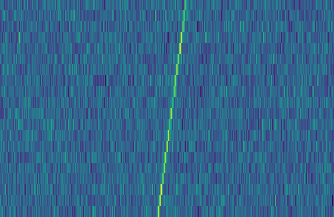signal: (154, 0, 191, 217)
